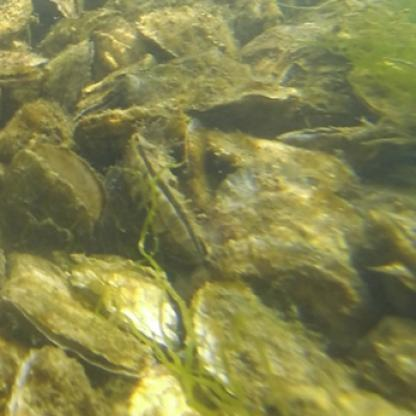3: (6, 255, 154, 378), (123, 132, 210, 263), (0, 350, 103, 416), (33, 145, 109, 227), (38, 41, 97, 113), (71, 73, 149, 120), (284, 122, 389, 148), (0, 62, 43, 87)
Oyster-Closed: (206, 243, 367, 339), (74, 107, 189, 171)
Oyster-Open: (207, 167, 371, 262), (193, 285, 329, 399), (70, 253, 180, 349), (207, 131, 355, 194), (0, 152, 93, 252), (139, 4, 242, 58), (0, 100, 68, 162), (186, 116, 212, 211)
